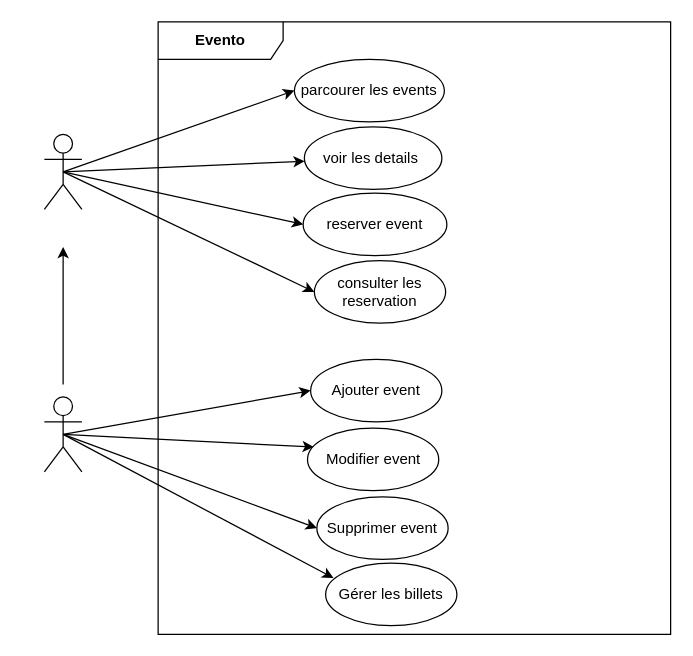
Some shapes in this 693 by 656 pixel diagram are drawn without their labels. The shapes that lost their labels are listed below. From the top down, each one's centre as x and y in pixels, then its label:
the point at 62,171: utilisateur
the point at 62,434: organisateur
